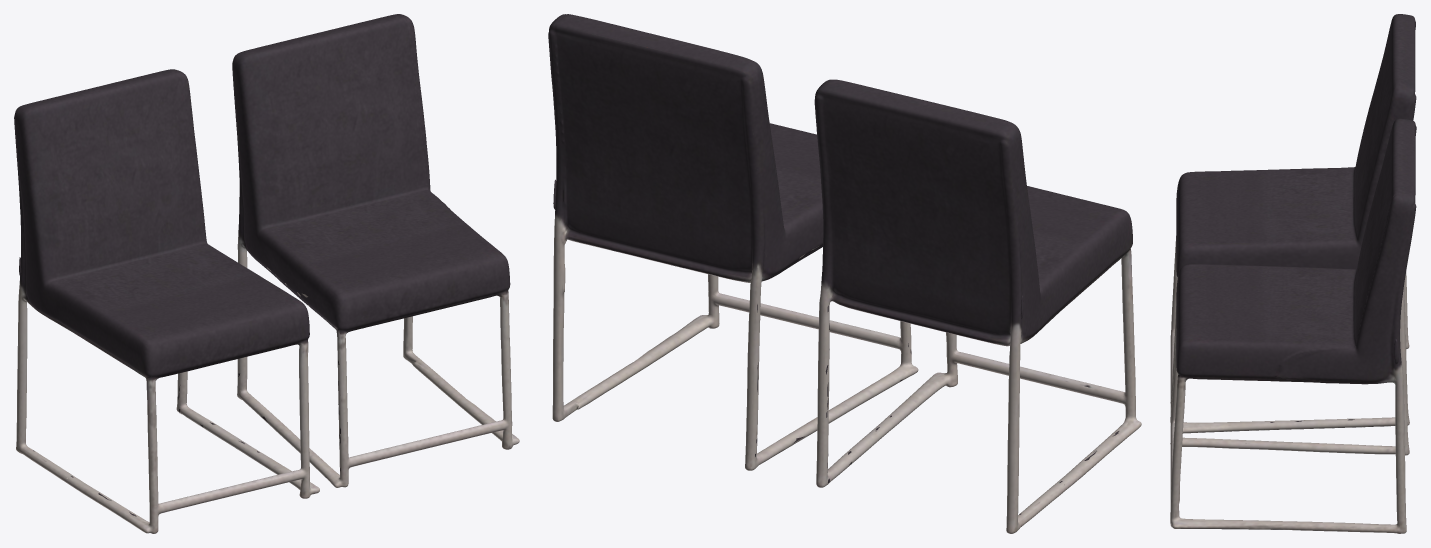
Rendered from product-farmhouse-celentano-upholstered-dining-chair-11.glb.
3 renders of one model, left to right at view 1: azimuth 30°, elevation 25°; view 2: azimuth 150°, elevation 25°; view 3: azimuth 270°, elevation 25°, orthographic. The views are drawn at different scales.
Parts seen in each view (by area): view 1: geometry_0; view 2: geometry_0; view 3: geometry_0.
Part boxes in pixels (<box>): geometry_0: <box>14,14,519,533</box>; geometry_0: <box>548,14,1141,533</box>; geometry_0: <box>1170,14,1416,533</box>.
Bounding box in the file's own units: 1.99 × 1.66 × 1.09.
1 material, 1 textured.
